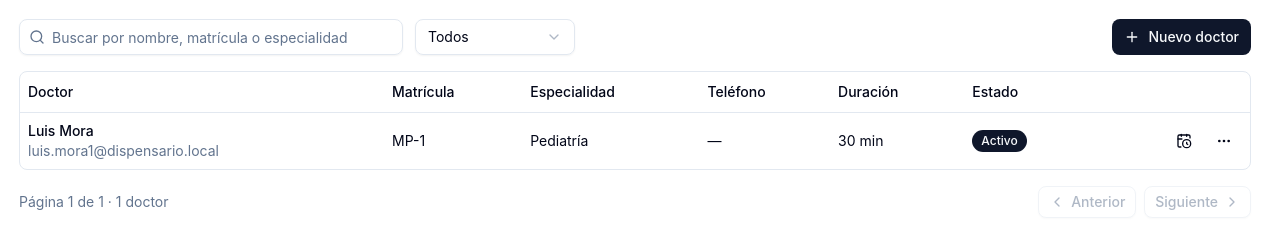
Scenario: DoctorsPage › shows the no results state with filters
Expected: the text "Luis Mora" is shown, left=28, top=122, right=94, bottom=138
Type "zzz" into the search field named "Buscar doctores" at (211, 37), box left=19, top=19, right=403, bottom=55
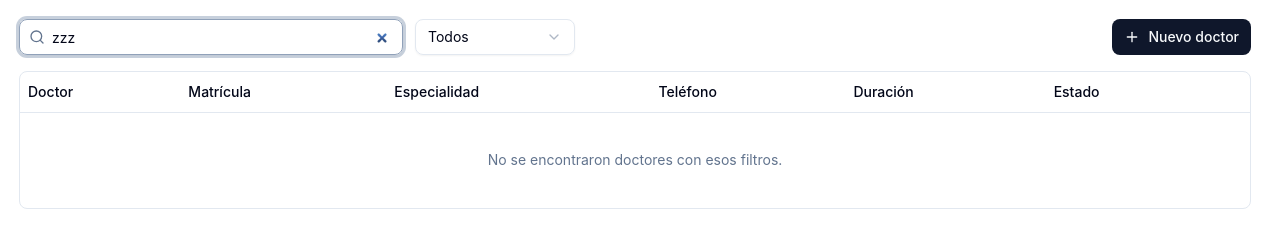
Now the text "No se encontraron doctores con esos filtros." is shown, box left=20, top=112, right=1250, bottom=208
